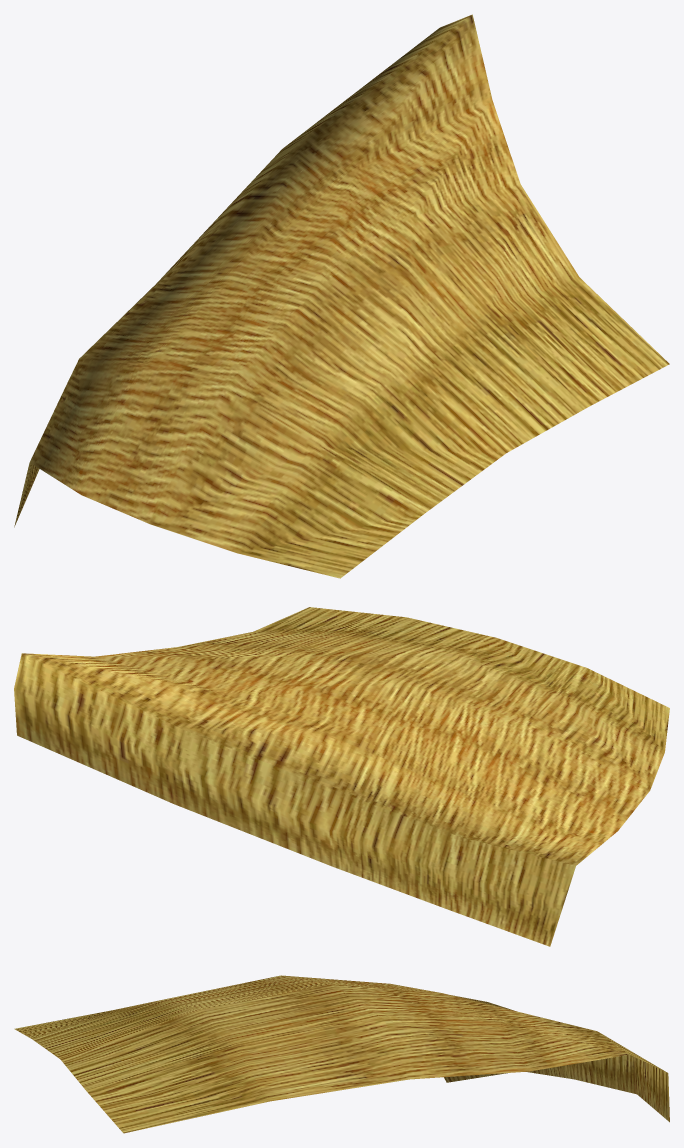
The model's file is HTOWN01_BAGROW1AWNING1.fbx.
The picture shows the model from 3 angles, top to bottom: view 1: azimuth 30°, elevation 25°; view 2: azimuth 150°, elevation 25°; view 3: azimuth 270°, elevation 25°; orthographic projection. The views are drawn at different scales.
Visible parts, largest first — view 1: HTOWN01_BAGROW1AWNING1; view 2: HTOWN01_BAGROW1AWNING1; view 3: HTOWN01_BAGROW1AWNING1.
Boxes of the visible parts, box(x1,y1,x2,y2) form: HTOWN01_BAGROW1AWNING1: box(14, 14, 669, 578); HTOWN01_BAGROW1AWNING1: box(14, 607, 669, 946); HTOWN01_BAGROW1AWNING1: box(14, 975, 669, 1133).
Size of the model in its own units: 23298 by 11911 by 25628.
2 materials, 2 textured.
